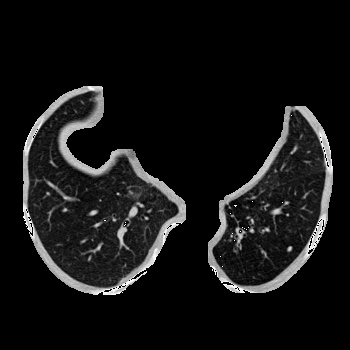PN: (286, 246, 292, 252)
